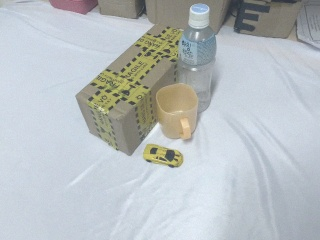bottle: (154, 3, 217, 141), (176, 4, 217, 114)
box: (77, 27, 182, 155), (138, 1, 242, 35), (234, 1, 304, 38), (91, 1, 146, 19)
cup: (155, 83, 199, 140)
toy_car: (143, 144, 184, 168)
